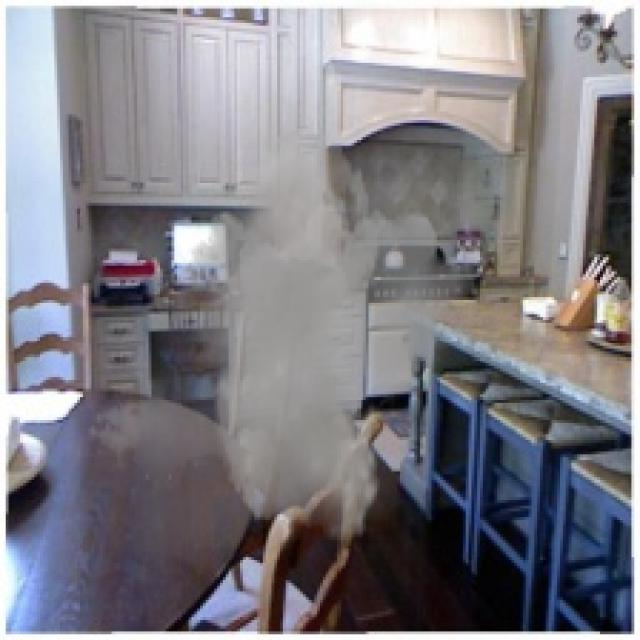smoke: (86, 126, 488, 543)
